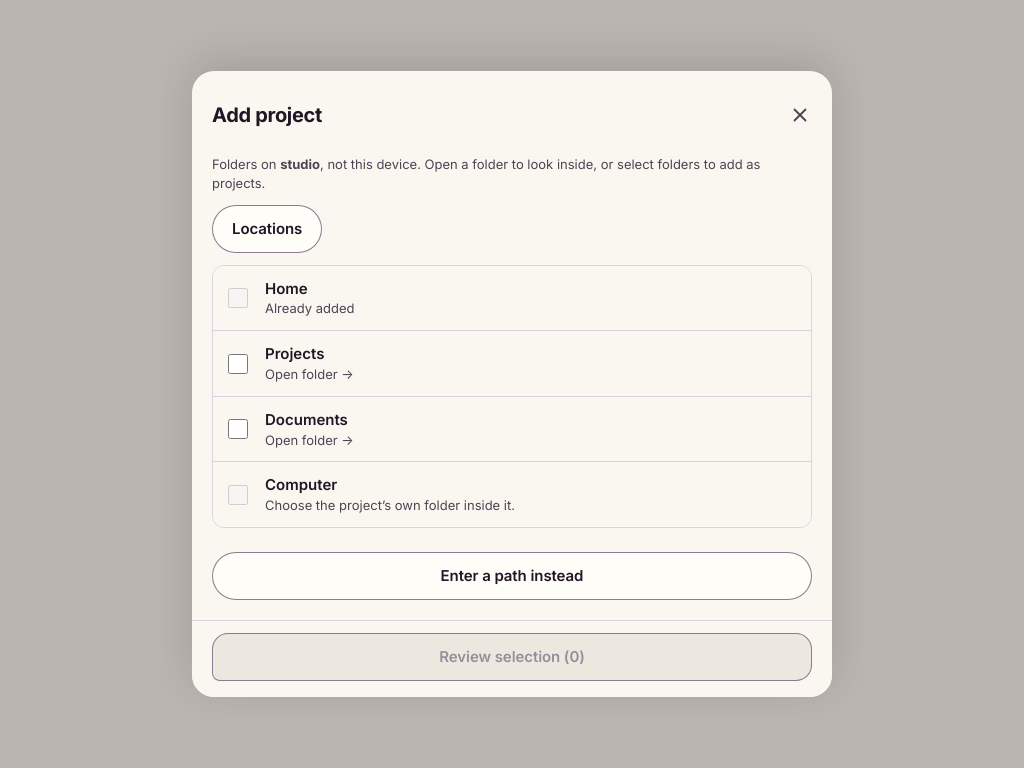
requests the next page explicitly and keeps selections across pages
The image size is (1024, 768).
Click the button with aria-label "Open Projects": (295, 354) [261, 331, 811, 396]
Wait 600 ms
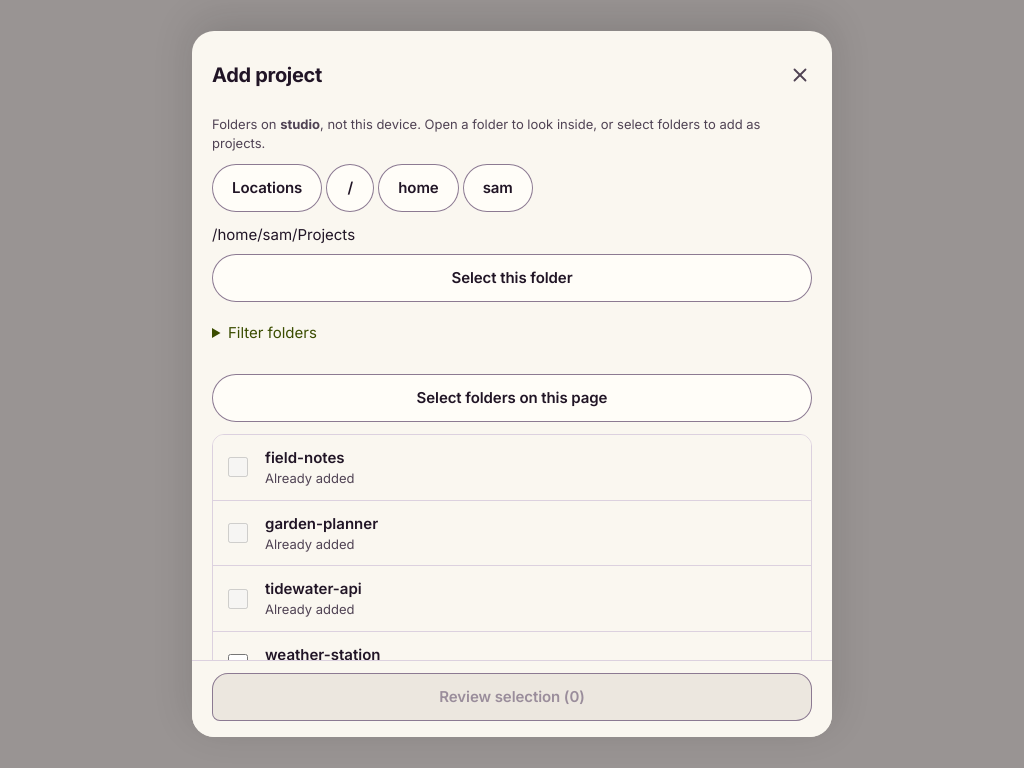
Click the button with aria-label "Open weather-station": (323, 654) [261, 632, 811, 696]
Wait 600 ms
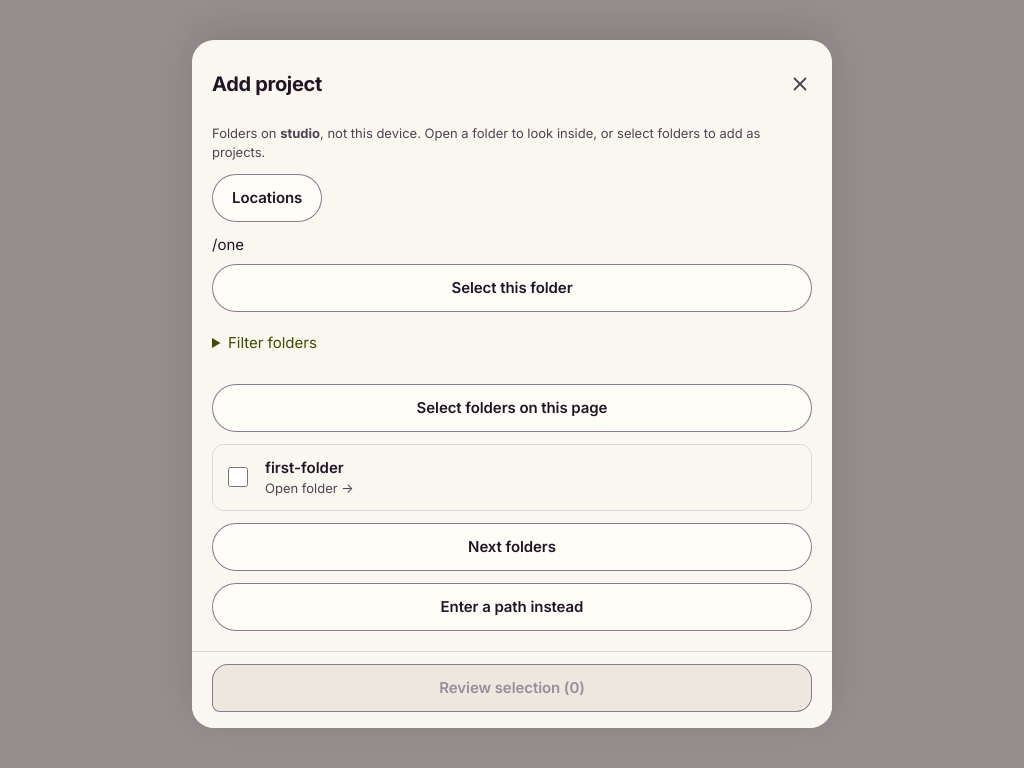
Click the checkbox named "Select first-folder": (238, 477) [228, 467, 248, 487]
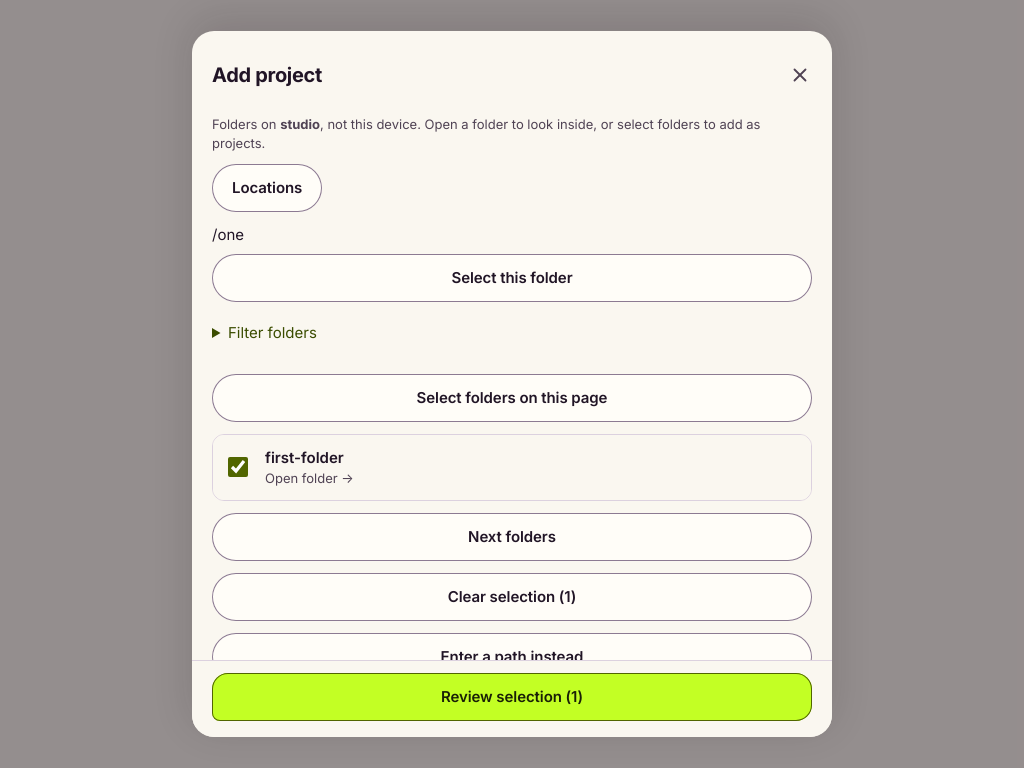
Click the button "Next folders": (512, 537) [212, 513, 812, 561]
Wait 600 ms
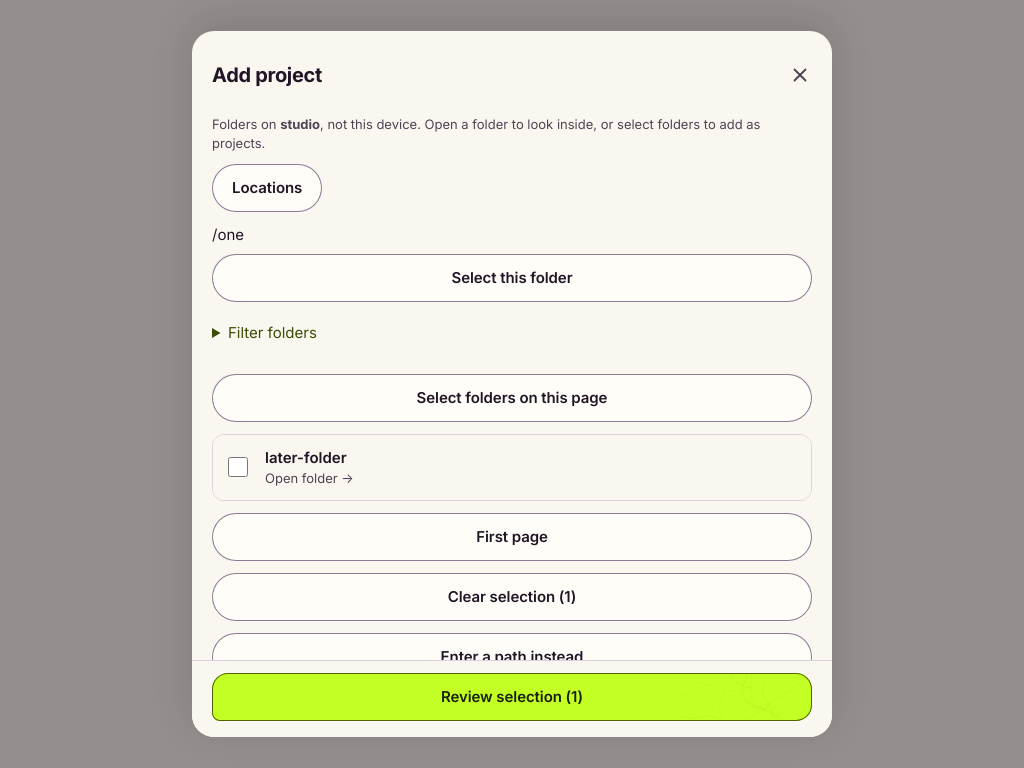
Click the checkbox named "Select later-folder": (238, 468) [228, 458, 248, 478]
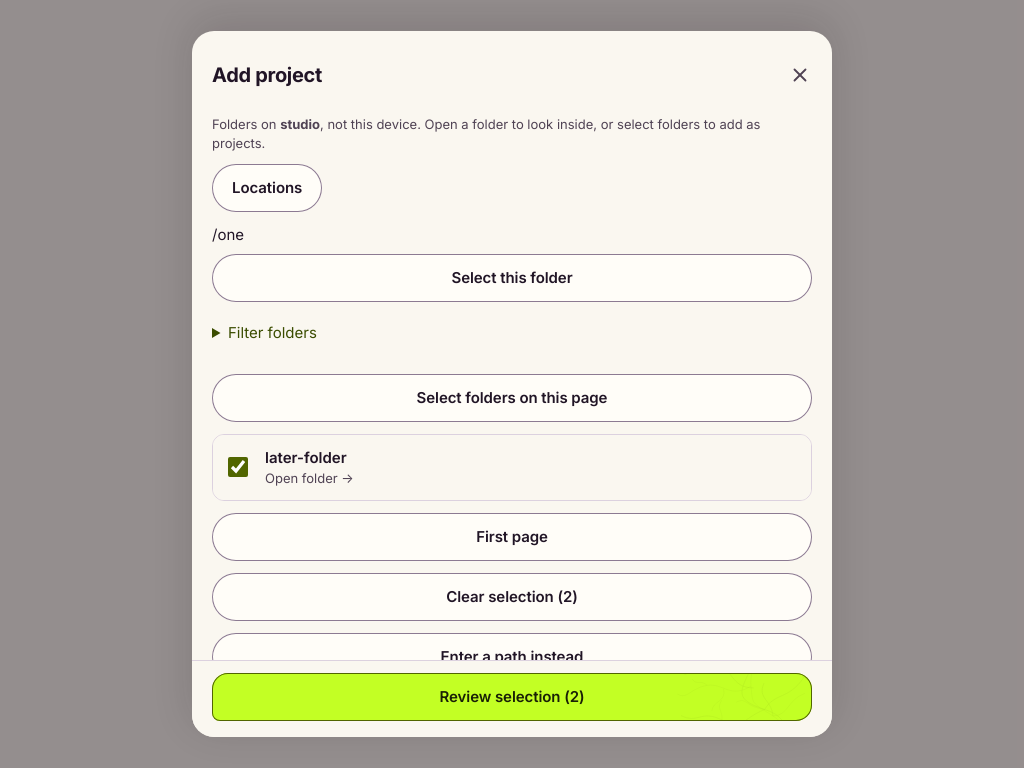
Expected: the button "Review selection (2)" is shown, [212, 673, 812, 721]
